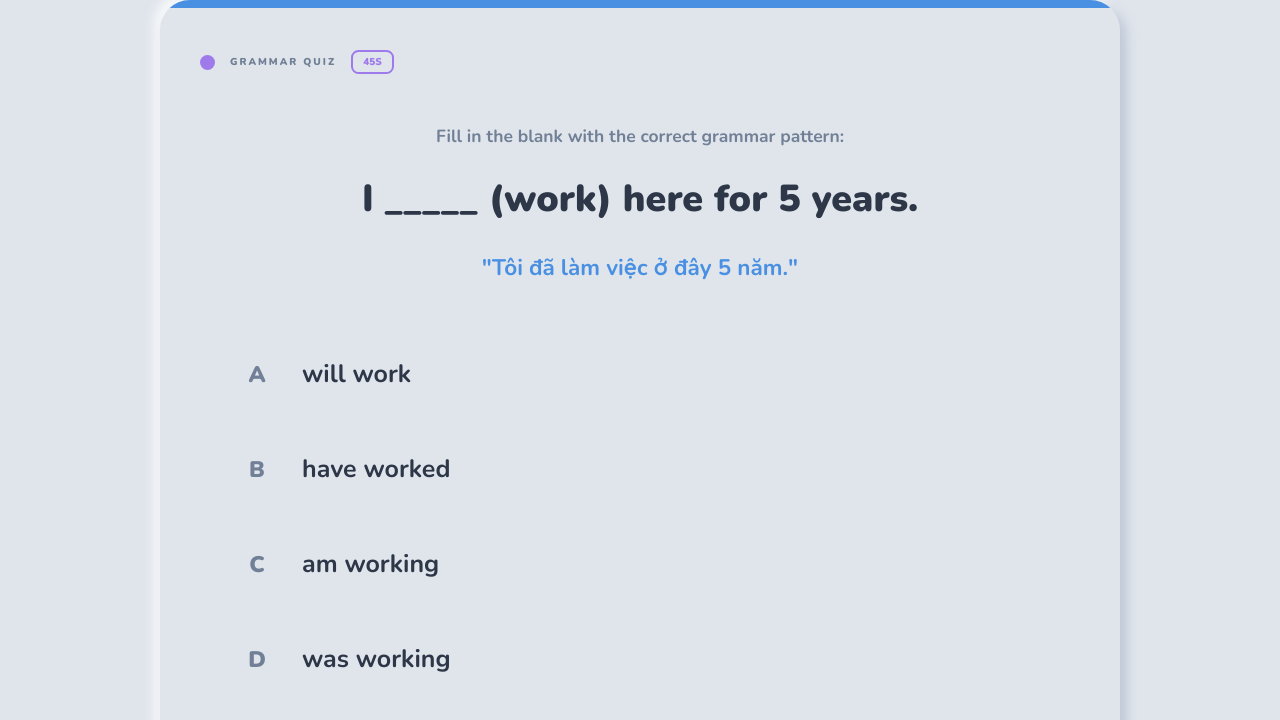
Scenario: GrammarQuizView › should show feedback after answering correctly
Click the text "have worked". click: (376, 470)
box: [302,452,450,487]
(page scrolled)
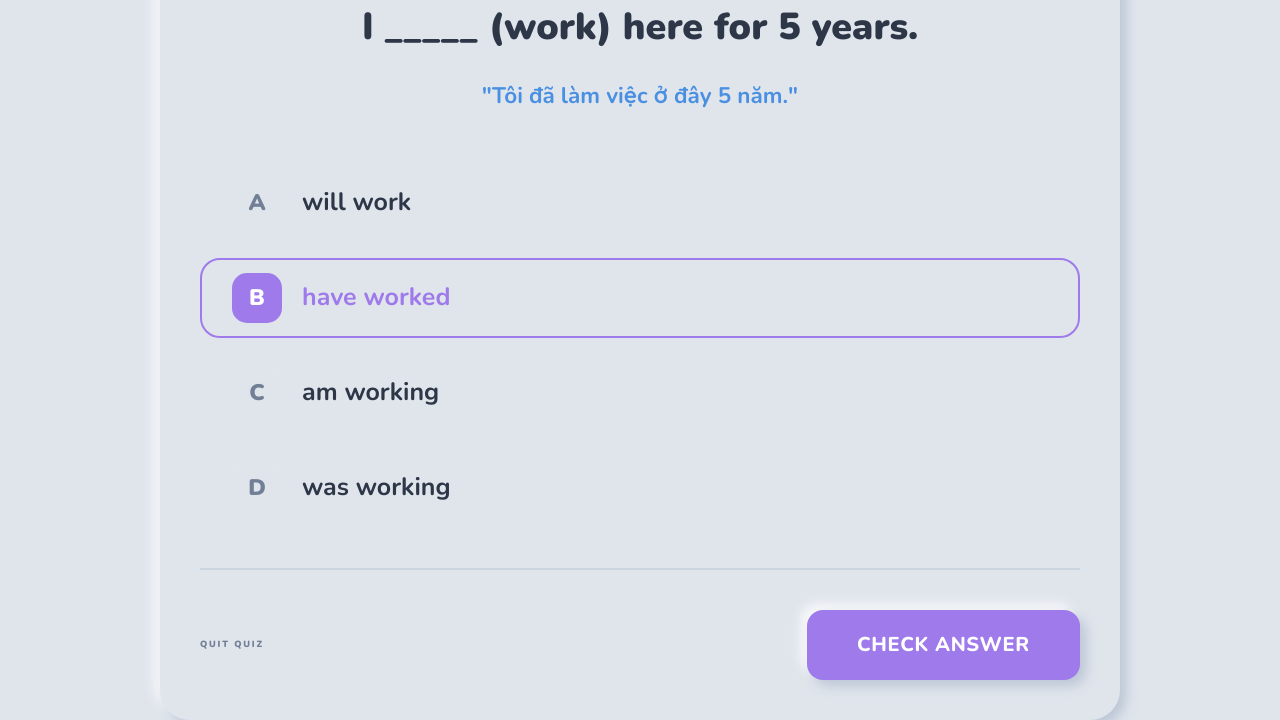
Click the button "Check Answer". click: (944, 645)
box: [807,610,1080,680]
(page scrolled)
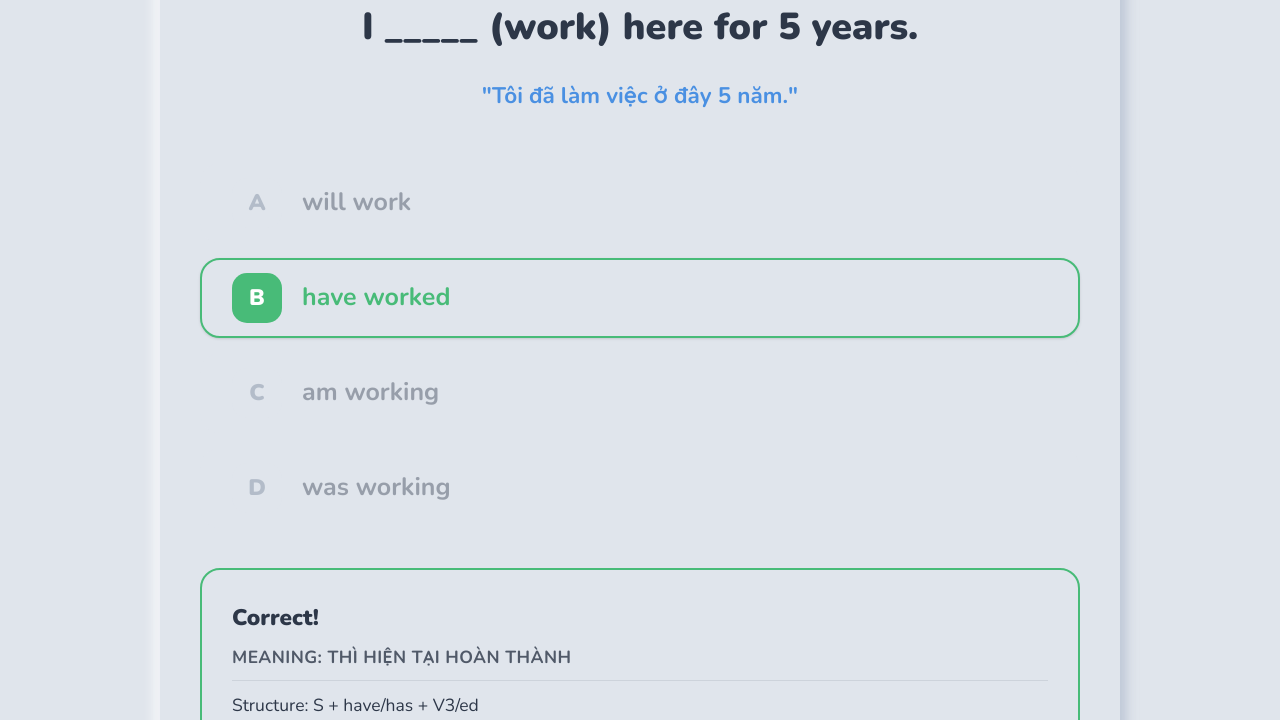
expect the heading "Correct!" is shown: met, box [232,602,319,633]
